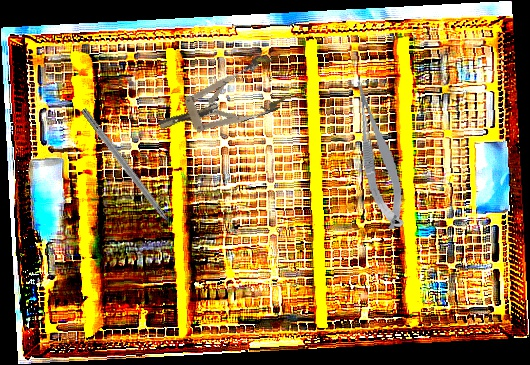Hook Surgical: (79, 107, 182, 240)
Micro Scissor: (349, 78, 409, 232)
Speculum: (149, 51, 290, 152)
